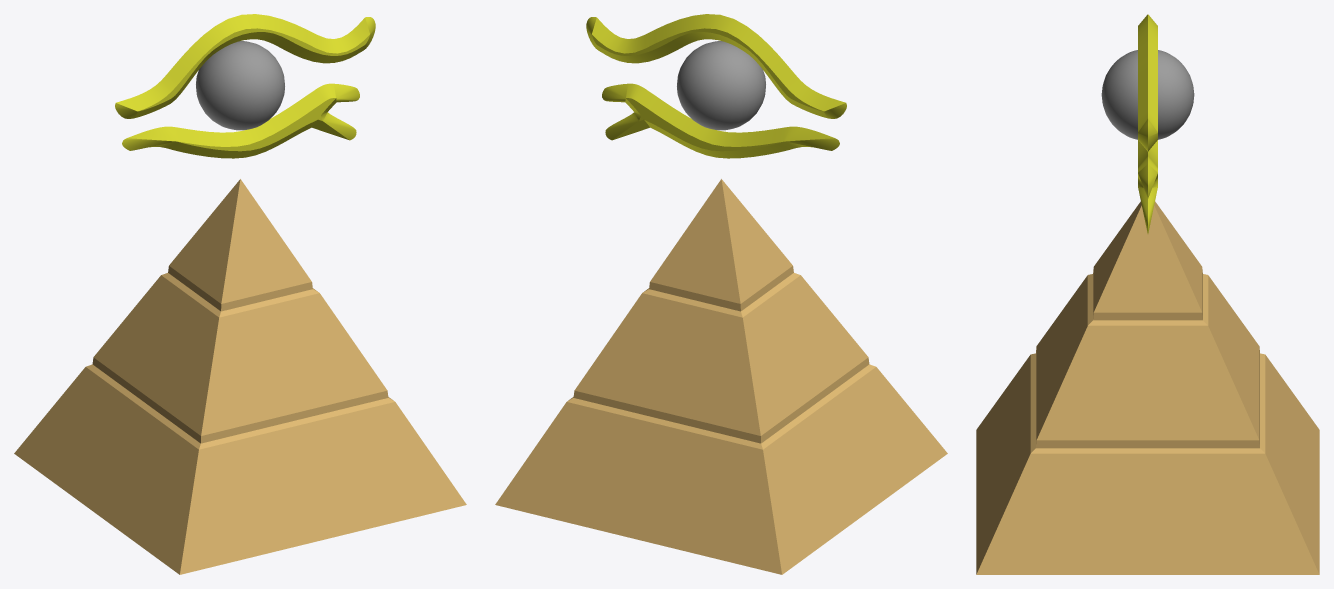
3 renders of one model, left to right at view 1: azimuth 30°, elevation 25°; view 2: azimuth 150°, elevation 25°; view 3: azimuth 270°, elevation 25°, orthographic. The views are drawn at different scales.
Visible parts, largest first — view 1: Pyramid_Base, Eye, Iris; view 2: Pyramid_Base, Eye, Iris; view 3: Pyramid_Base, Iris, Eye.
Part boxes in pixels (<box>): Pyramid_Base: <box>14,179,466,574</box>; Eye: <box>115,14,375,158</box>; Iris: <box>196,41,284,130</box>; Pyramid_Base: <box>495,179,947,574</box>; Eye: <box>586,14,846,158</box>; Iris: <box>677,41,765,130</box>; Pyramid_Base: <box>976,201,1319,574</box>; Iris: <box>1101,50,1194,139</box>; Eye: <box>1138,14,1157,233</box>.
Size of the model in its own units: 51.18 by 79.06 by 51.18.
